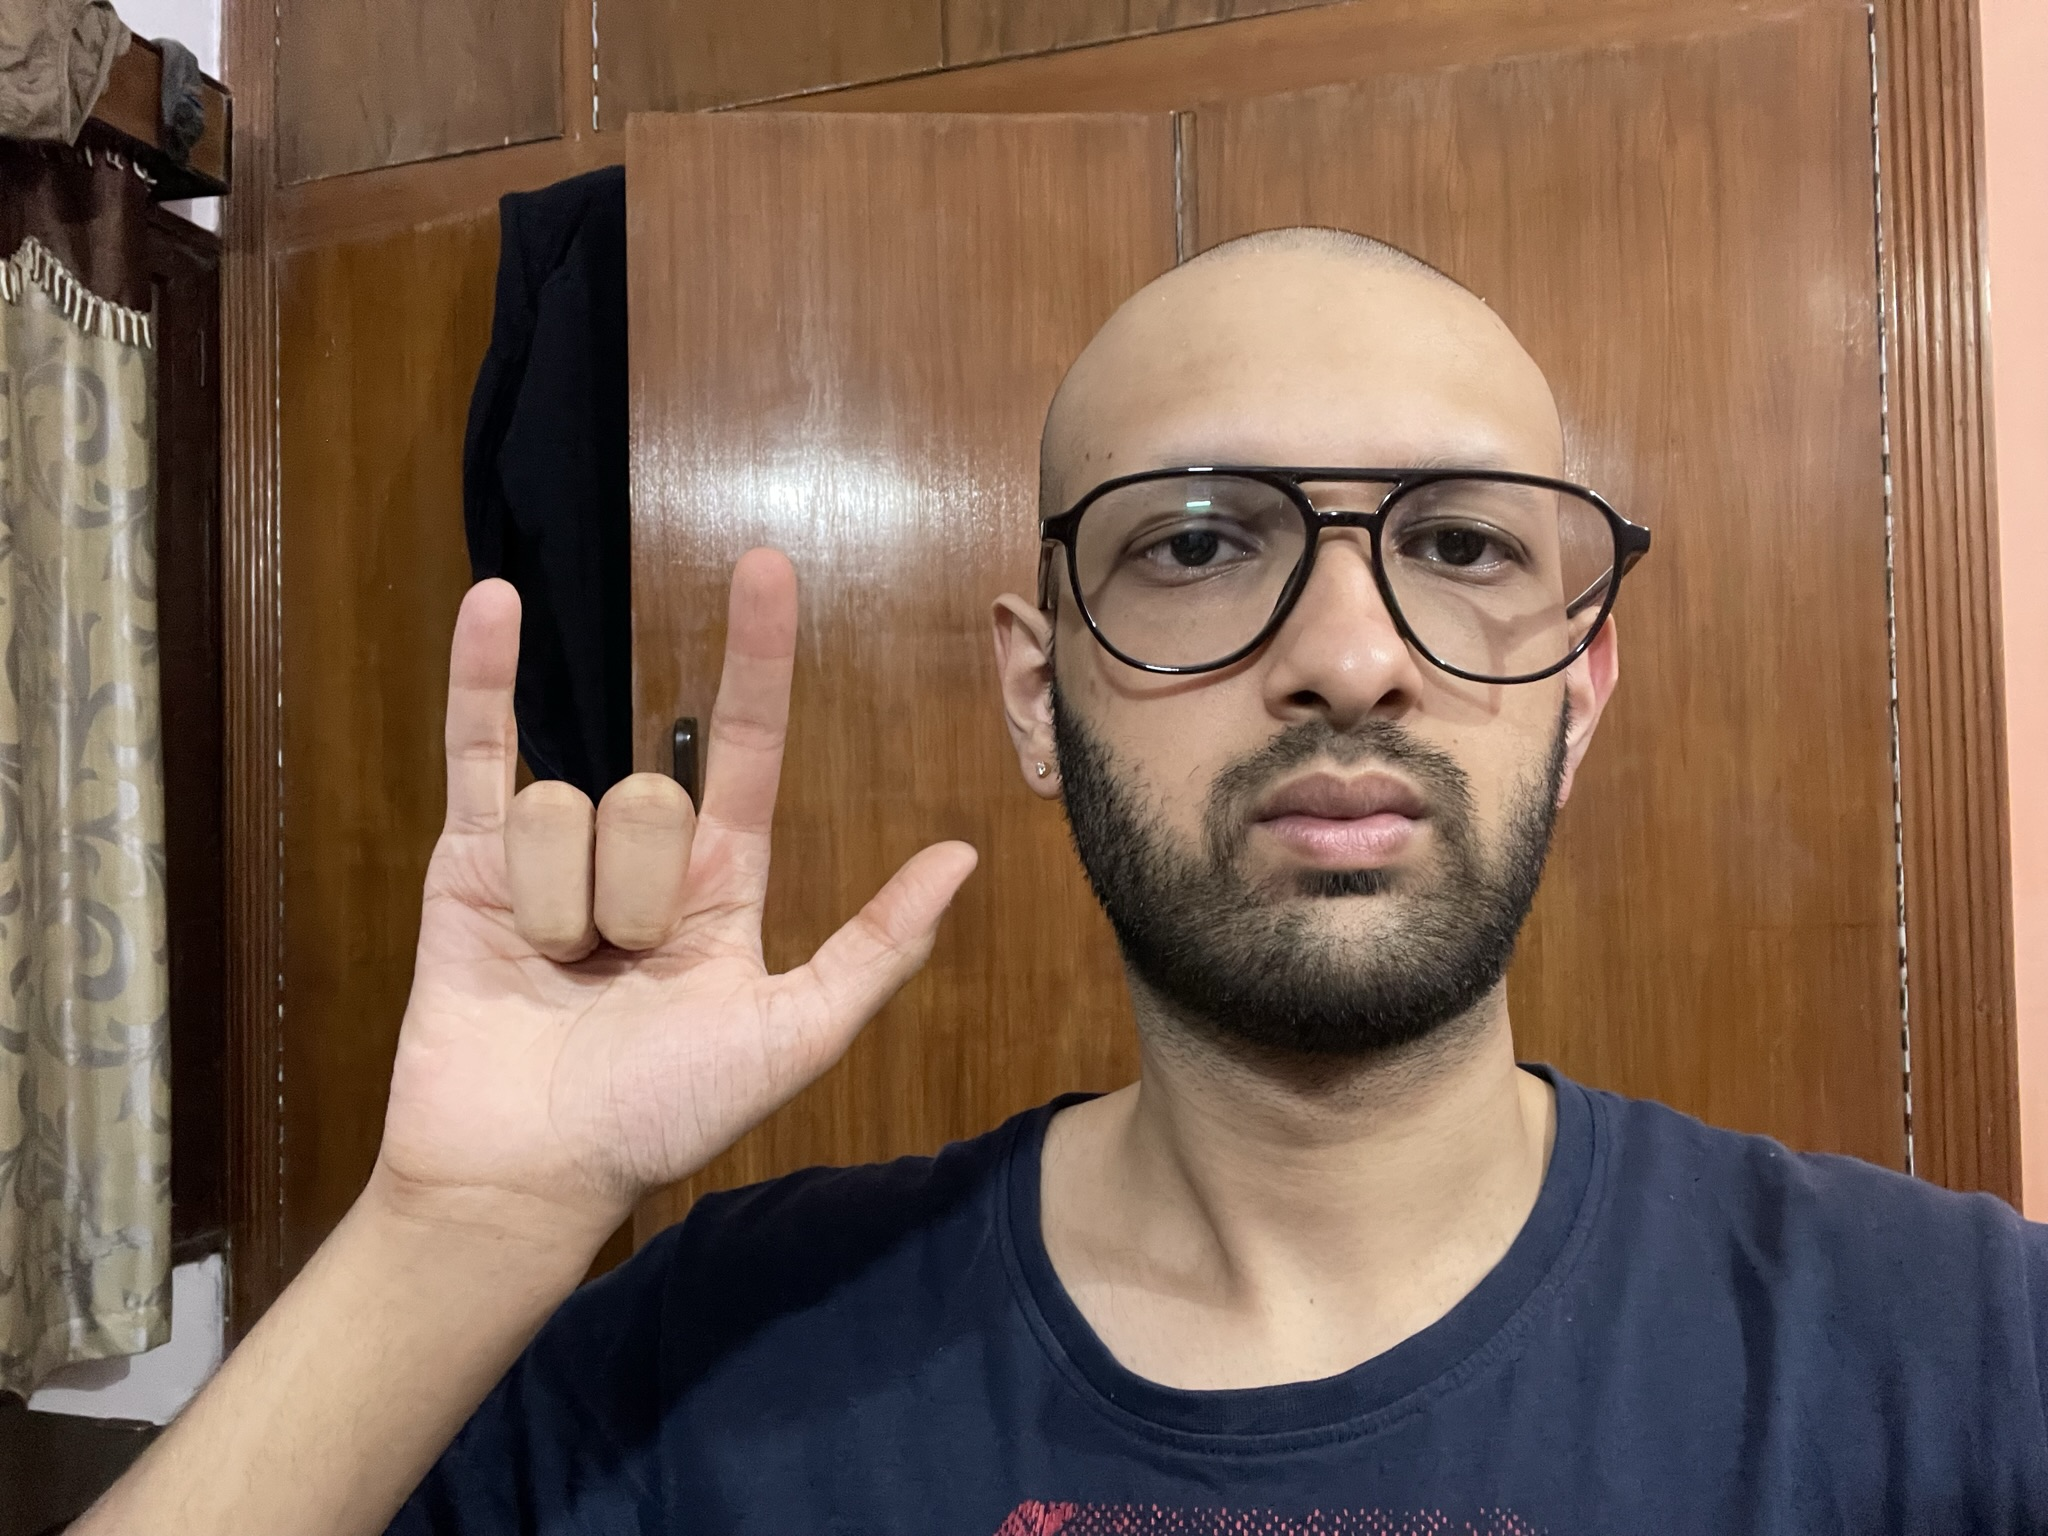I Love You: (376, 542, 985, 1217)
